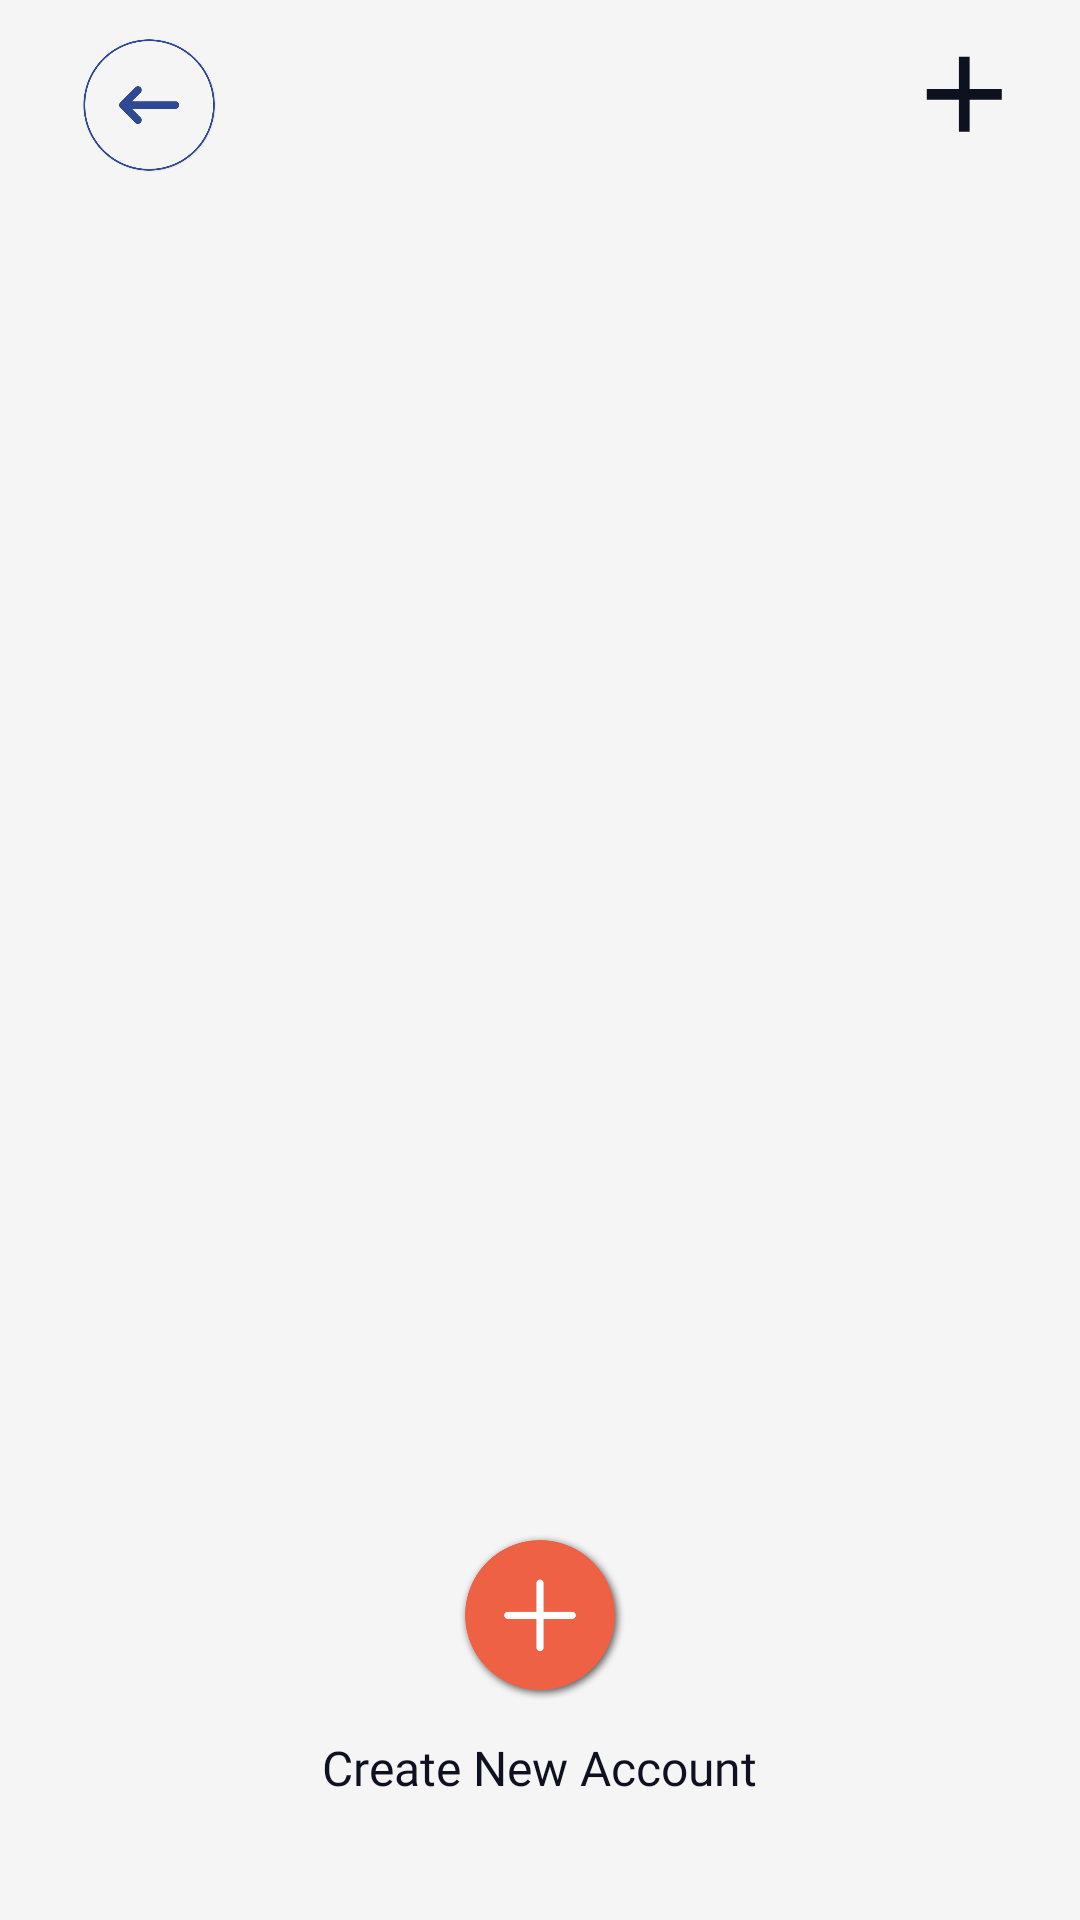

Named icons in this screenshot (1080w x 1920h) and their centers, (x=x, y=y):
back: (x=149, y=105)
